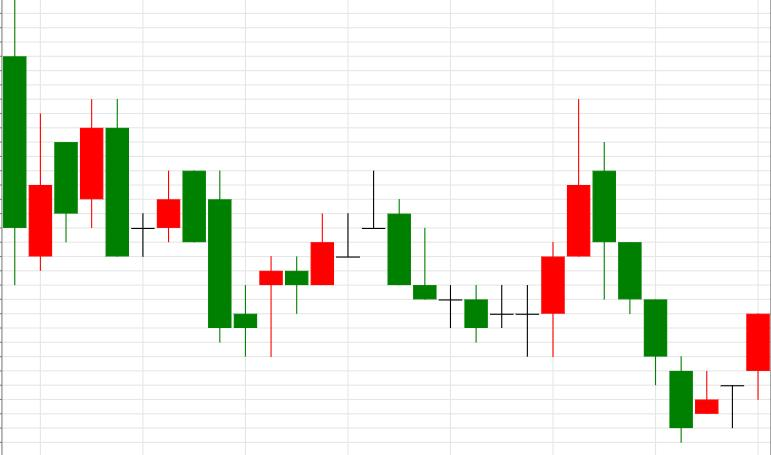three_black_crows_fall: (465, 100, 667, 385)
